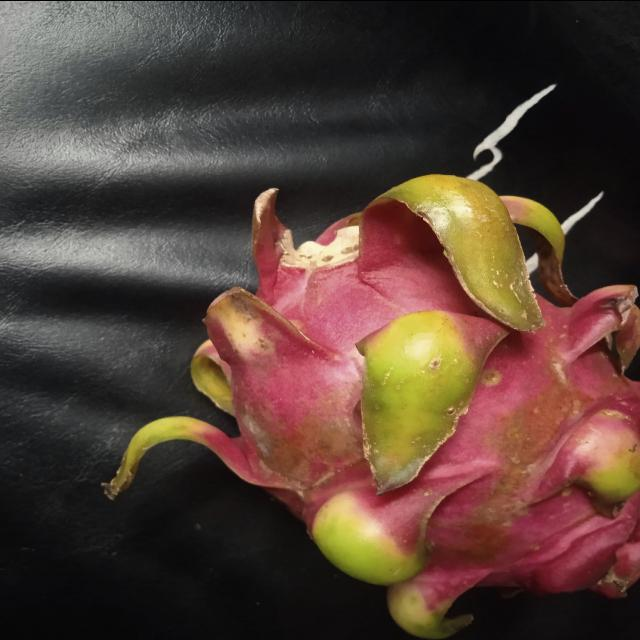do: (100, 167, 639, 639)
